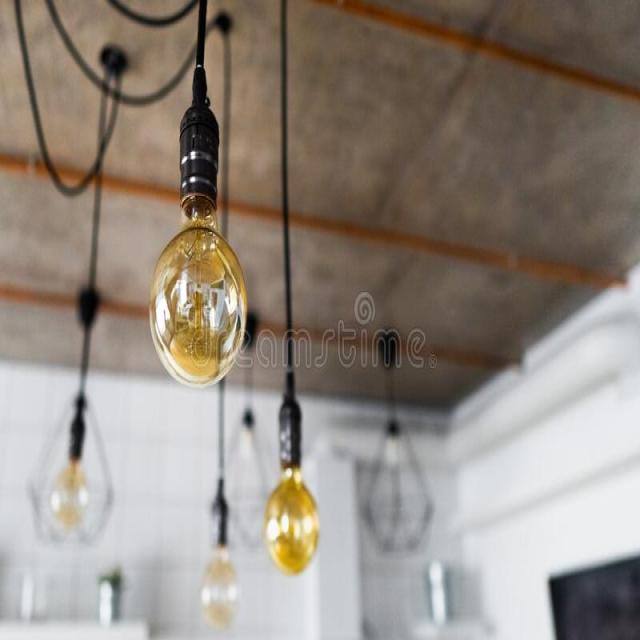Hazard: (117, 94, 260, 397), (259, 414, 303, 560)
